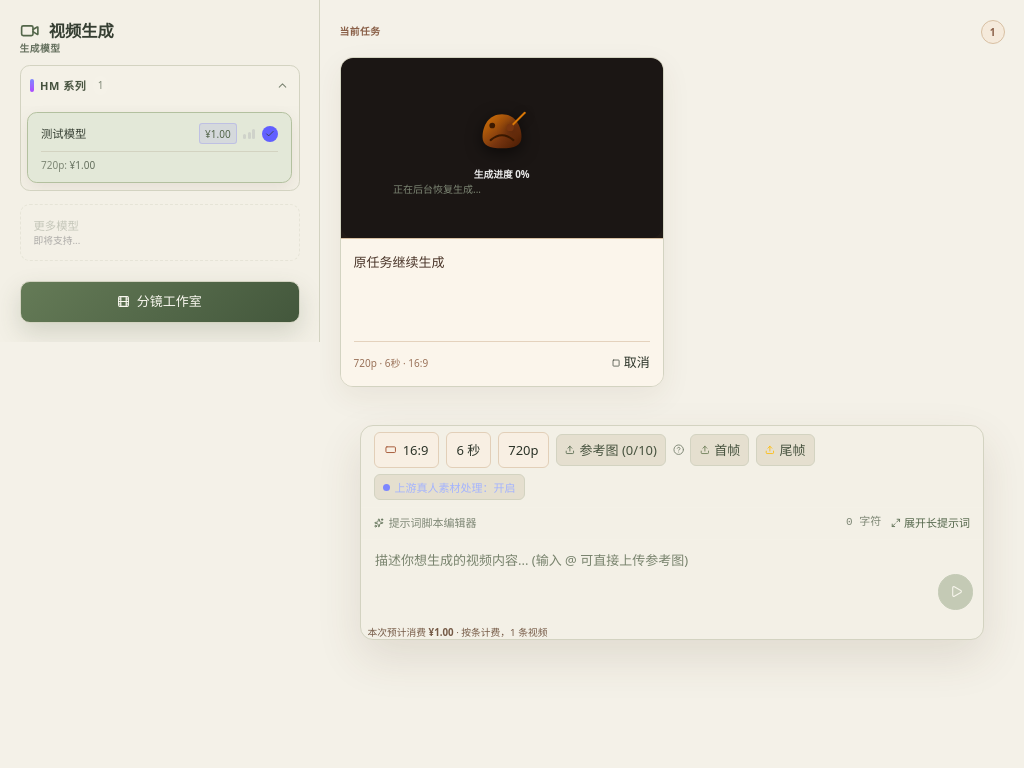
Scenario: keeps a queued record until the server confirms cancellation, without using DELETE
Later steps or results of the test are not shown.
Click the button "取消".
click(631, 363)  # box [612,352,650,373]
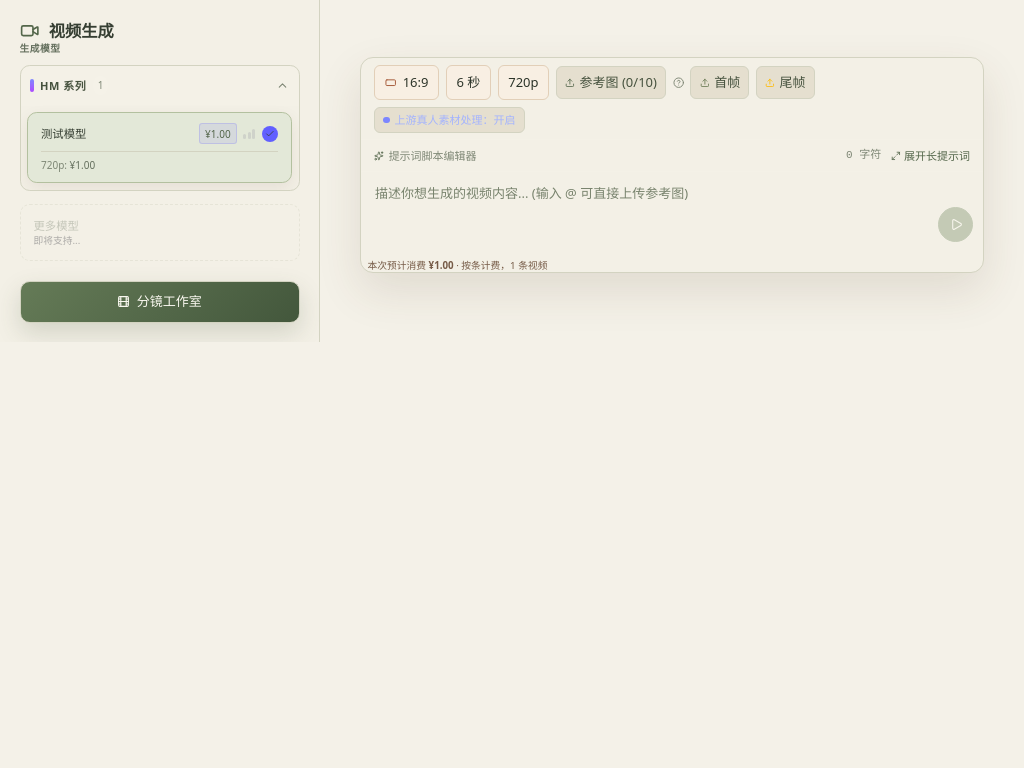
Expected: the text "原任务继续生成" is gone
